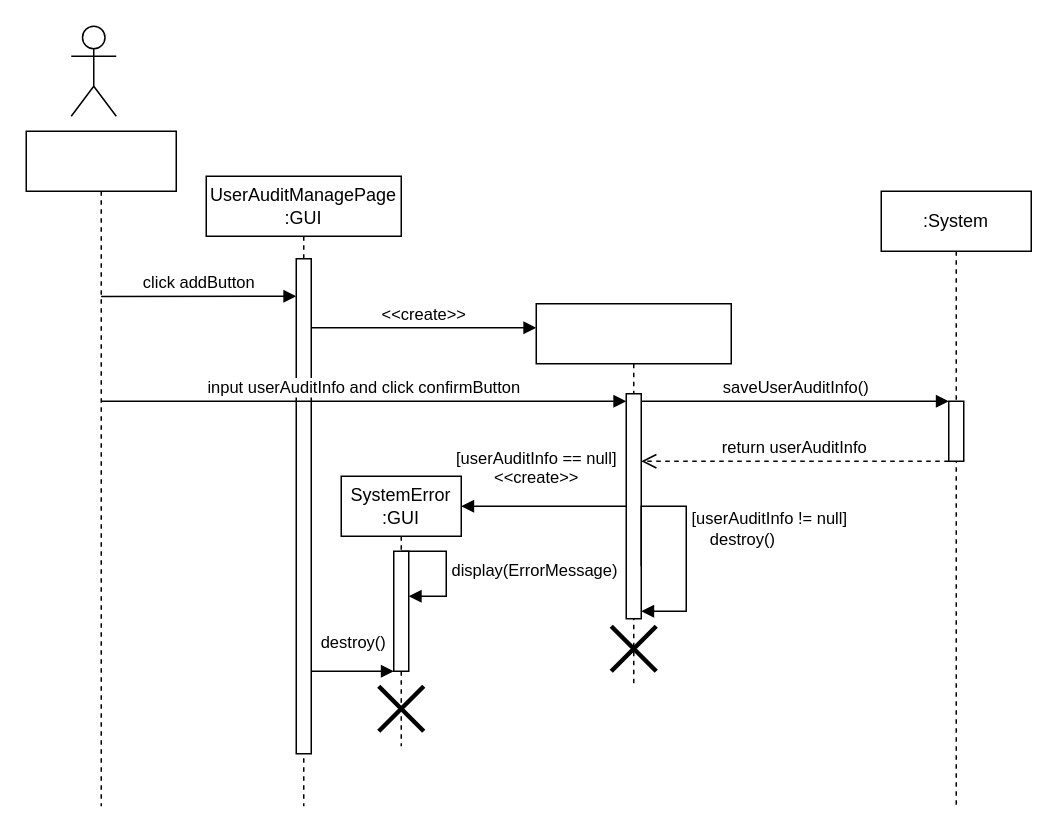
Image size: 1058x833. Some labels were removed from this diagram. The box of each missing label's shape, as (x1, y1, x2, y2) in pixels:
AddUserAuditInfoDialog :GUI: (535, 302, 731, 686)
User: (25, 130, 176, 806)
